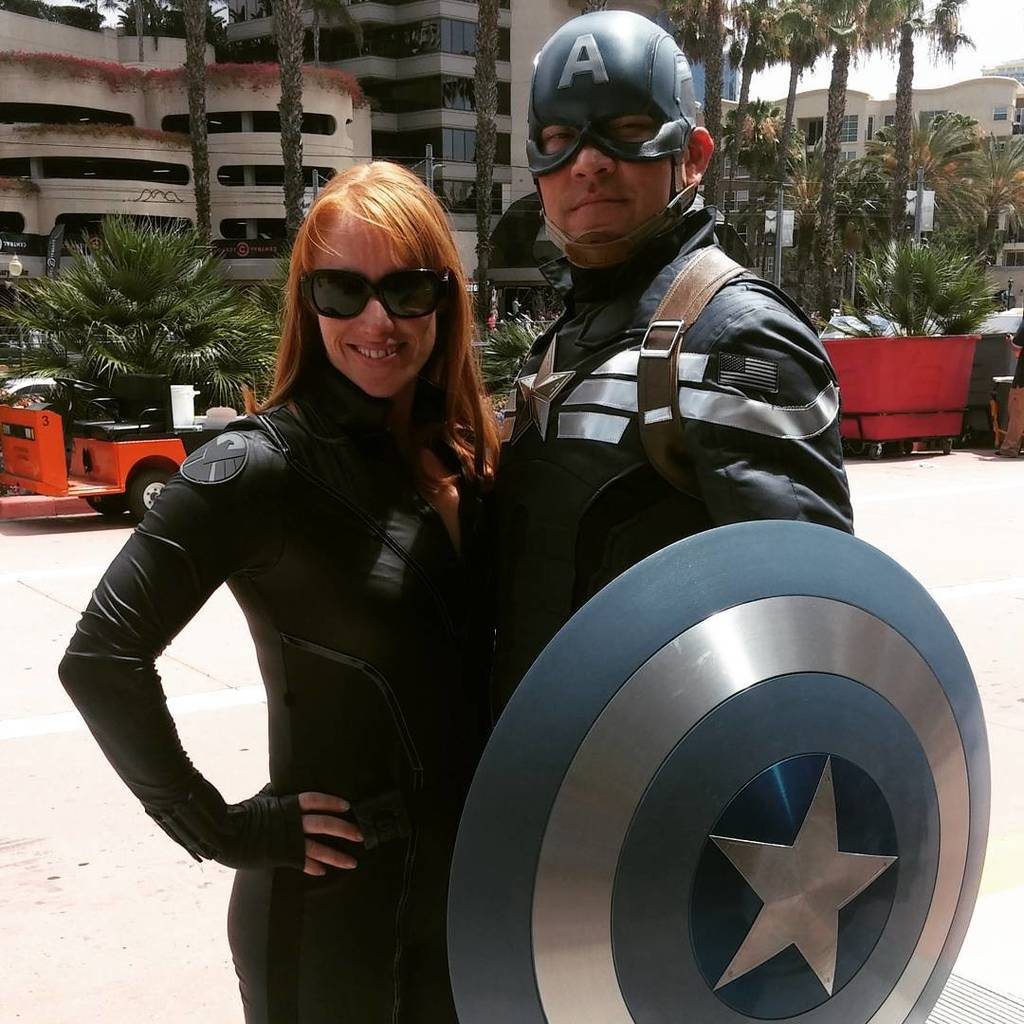Person: (57, 158, 501, 1023), (493, 9, 854, 663), (995, 311, 1024, 459), (486, 293, 563, 326)
